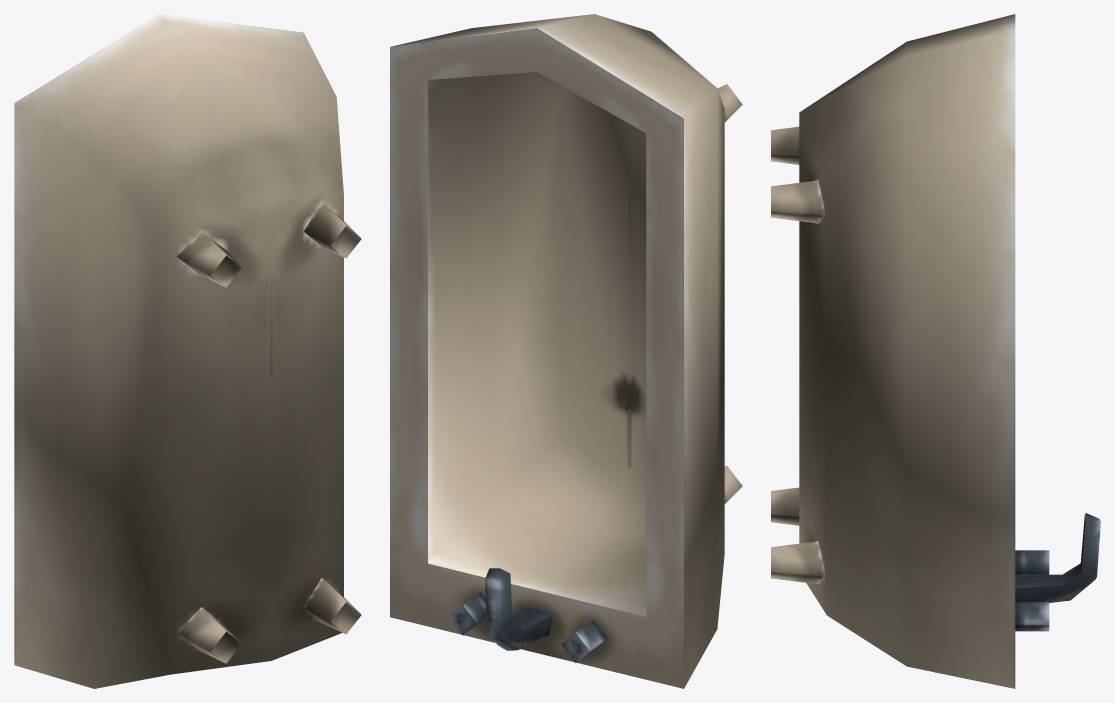
File: props_bathtub.fbx
3 renders of one model, left to right at view 1: azimuth 30°, elevation 25°; view 2: azimuth 150°, elevation 25°; view 3: azimuth 270°, elevation 25°, orthographic. The views are drawn at different scales.
Parts seen in each view (by area): view 1: bathtub; view 2: bathtub; view 3: bathtub.
Part boxes in pixels (x1,y1,x2,y2): bathtub: (14, 14, 361, 688); bathtub: (390, 14, 742, 688); bathtub: (771, 14, 1100, 688).
Size of the model in its own units: 0.7869 by 1.6 by 0.809.
Materials: 1 (1 with a texture image).
